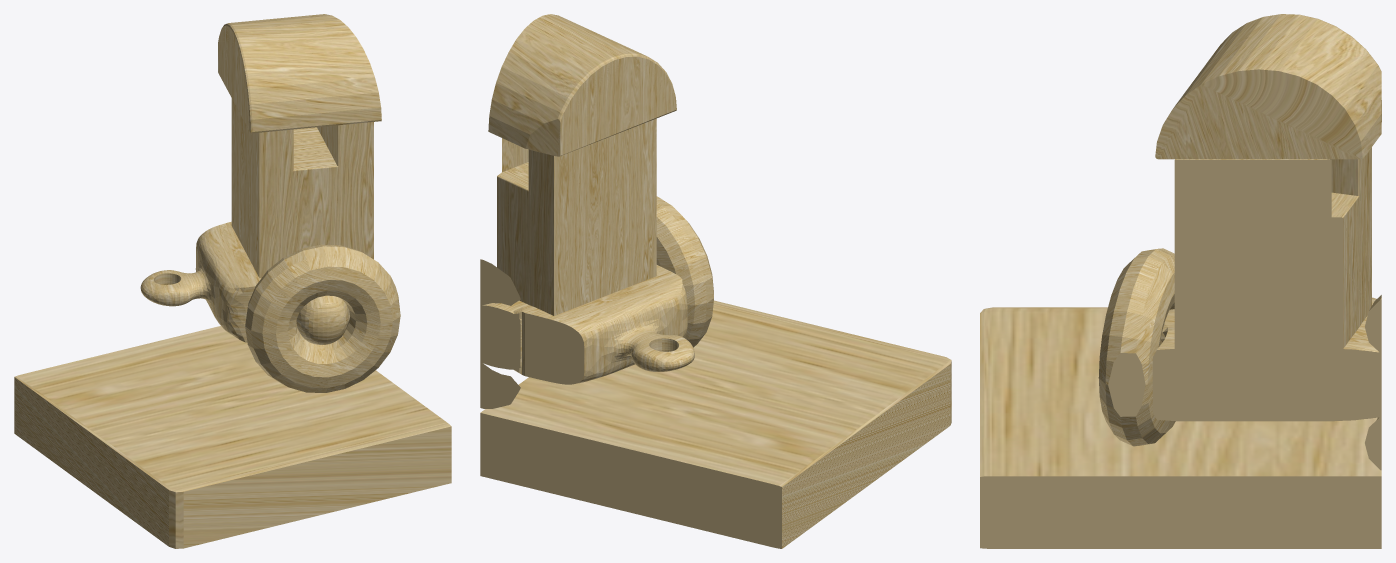
Rendered from 6_Holzbahn.fbx.
3 renders of one model, left to right at view 1: azimuth 30°, elevation 25°; view 2: azimuth 150°, elevation 25°; view 3: azimuth 270°, elevation 25°, orthographic. The views are drawn at different scales.
Visible parts, largest first — view 1: Cube.068, Cube.052, Cube.053, Cube.015, Cube.054; view 2: Cube.068, Cube.052, Cube.015, Cube.054, Cube.053, Cube.055; view 3: Cube.068, Cube.052, Cube.015, Cube.054, Cube.053, Cube.055.
Boxes of the visible parts, x1,y1,x2,y2 form: Cube.068: (14,326,451,548); Cube.052: (231,98,373,278); Cube.053: (245,244,400,392); Cube.015: (218,14,381,133); Cube.054: (140,221,349,344); Cube.068: (480,300,951,548); Cube.052: (497,118,656,315); Cube.015: (488,14,676,156); Cube.054: (480,265,694,384); Cube.053: (656,196,713,347); Cube.055: (480,259,520,408); Cube.068: (980,307,1381,548); Cube.052: (1174,147,1371,349); Cube.015: (1155,14,1381,159); Cube.054: (1152,297,1381,421); Cube.053: (1098,248,1175,446); Cube.055: (1365,295,1381,470).
Size of the model in its own units: 500 by 659 by 500.
